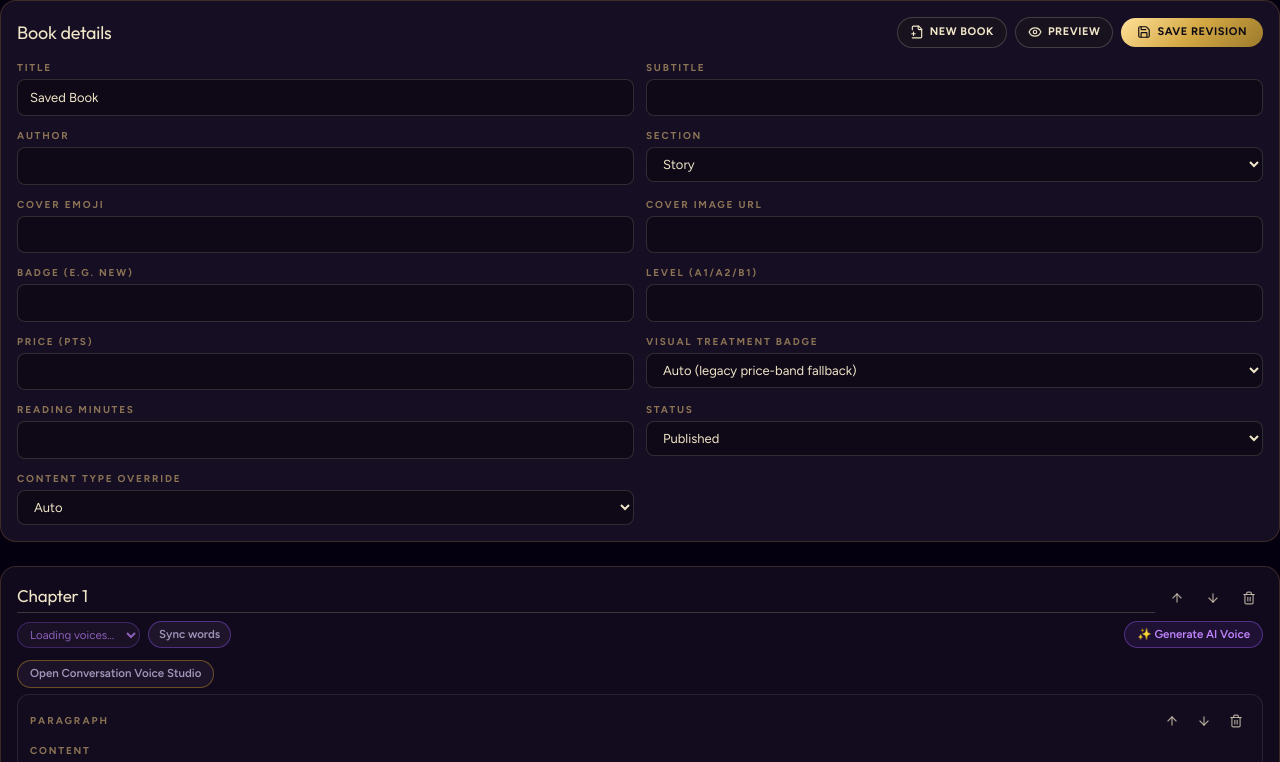
Test case: local edit during voice operation is not overwritten and stays dirty
Click the button with test id "studio-chapter-0-elevenlabs". click: click(1194, 635)
box: [1124, 621, 1263, 648]
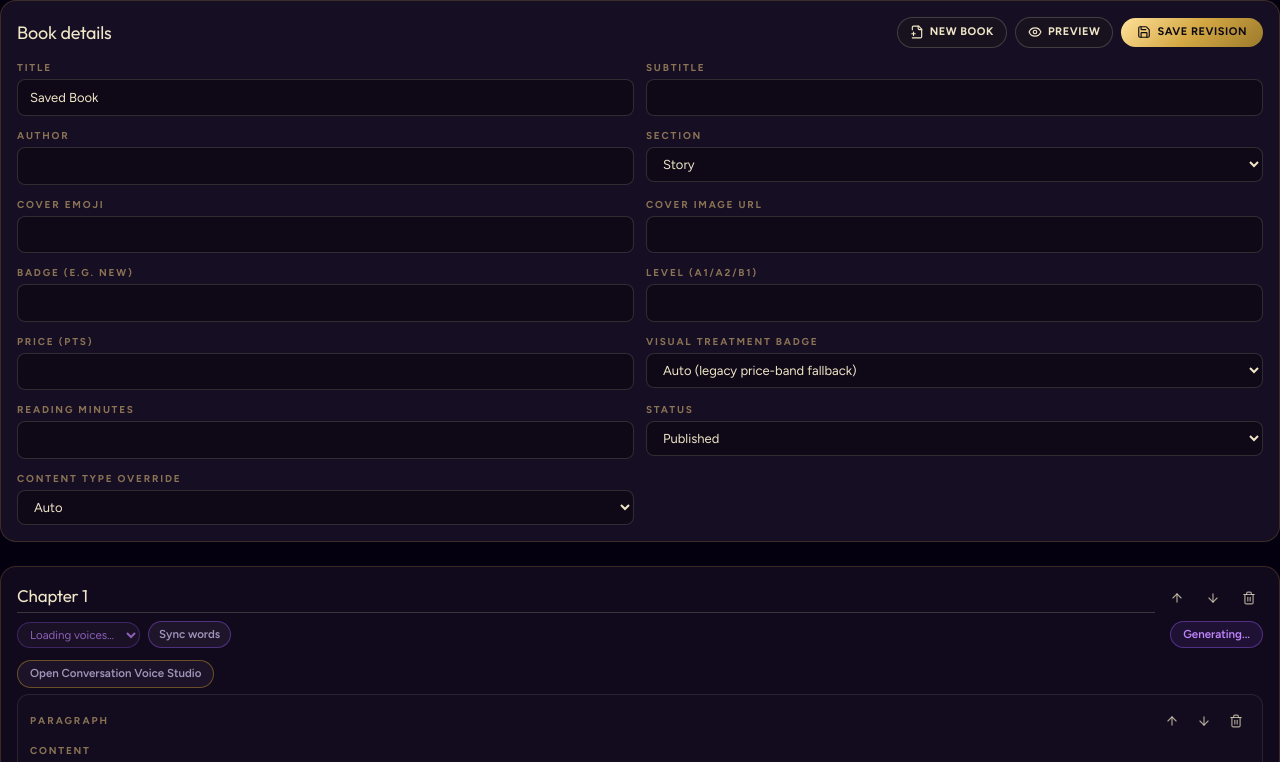
edit while the voice request is in flight
Replace the text in the field with test id "studio-chapter-title-0" with "LOCAL EDIT". click: (586, 598)
box: [17, 582, 1155, 613]
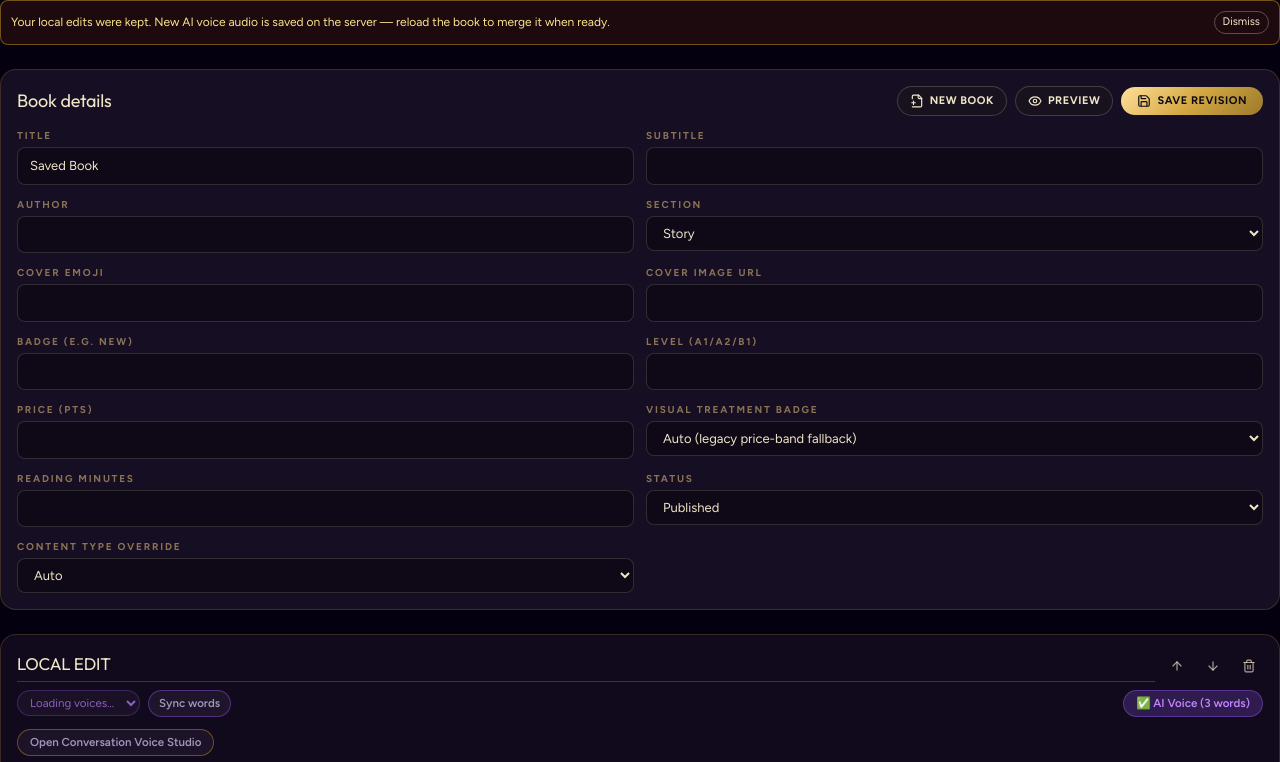
Check: the element with test id "studio-sync-warning" is shown, box [0, 0, 1279, 44]
